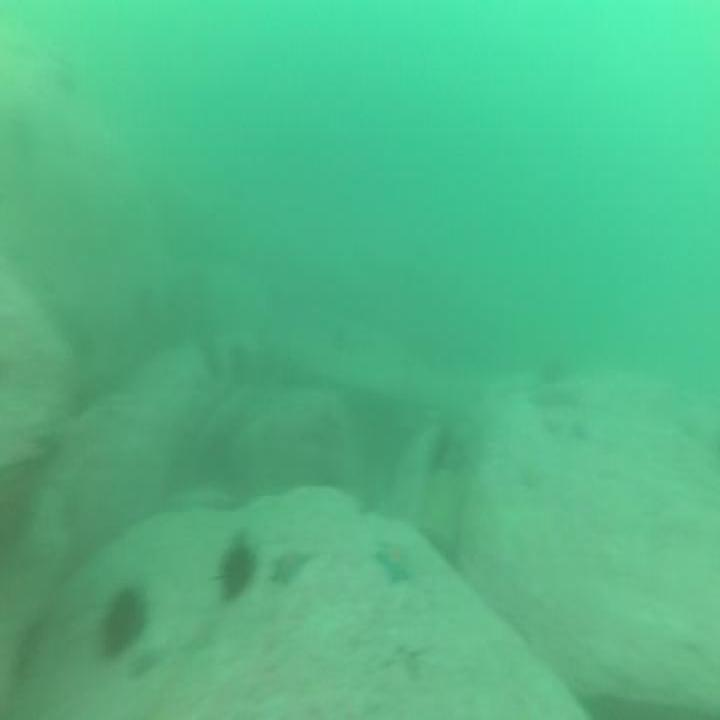echinus: (96, 580, 152, 663), (214, 537, 258, 601)
starfish: (373, 535, 416, 594), (267, 544, 317, 592)
